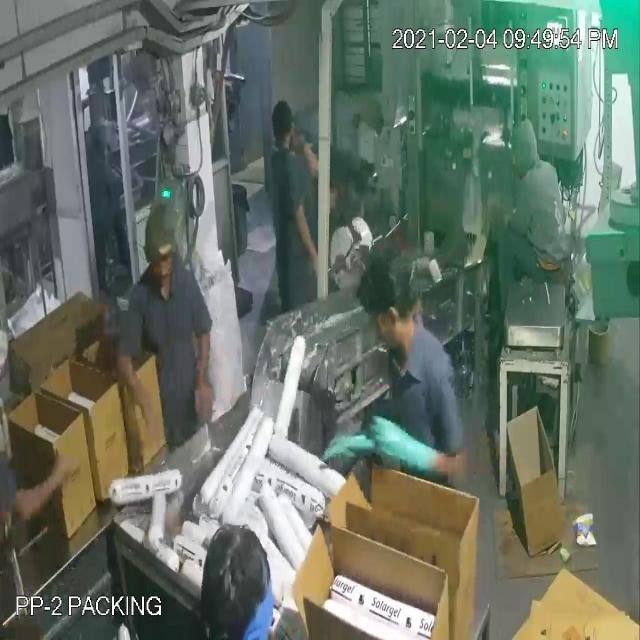No_Gloves: (34, 80, 407, 490)
